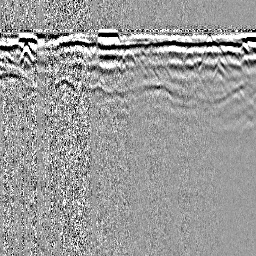cavity: (120, 48, 136, 63)
